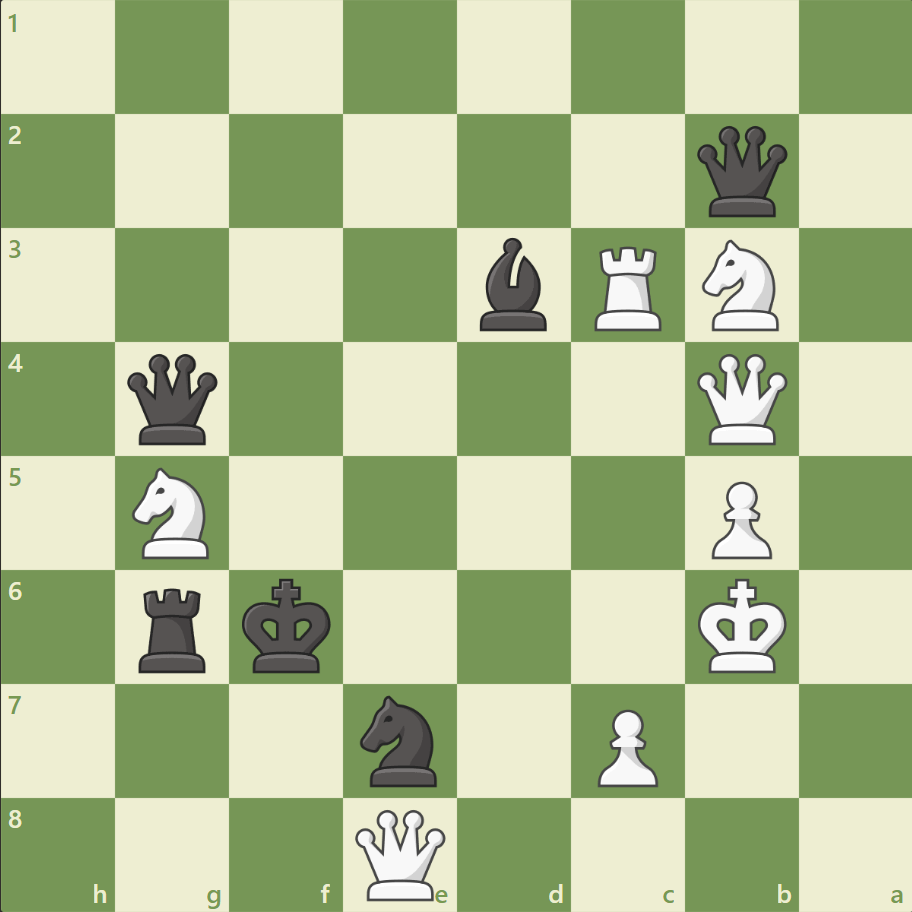K: (692, 571, 792, 679)
N: (124, 461, 222, 564), (692, 234, 789, 337)
P: (701, 473, 776, 564), (588, 700, 662, 791)
Q: (691, 349, 790, 449), (351, 804, 450, 903)
R: (587, 239, 670, 336)
b: (471, 233, 555, 336)
k: (238, 571, 338, 679)
n: (351, 688, 449, 791)
q: (124, 349, 223, 449), (691, 122, 790, 222)
r: (133, 579, 215, 676)
